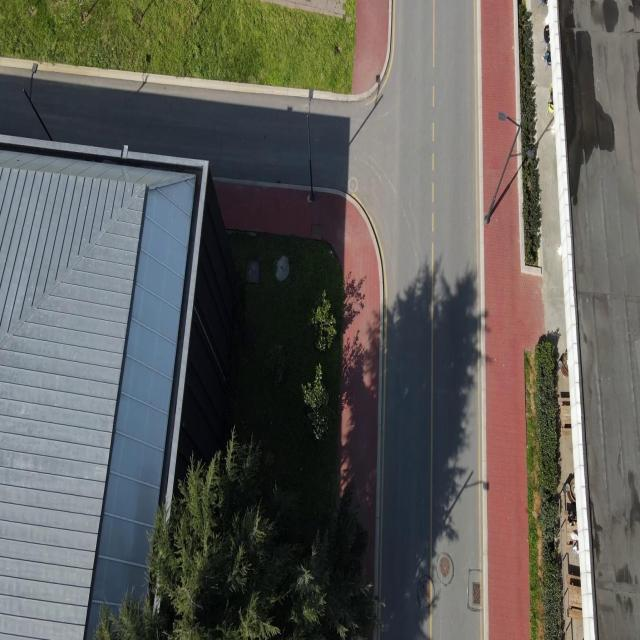p3rson: (544, 25, 550, 43)
